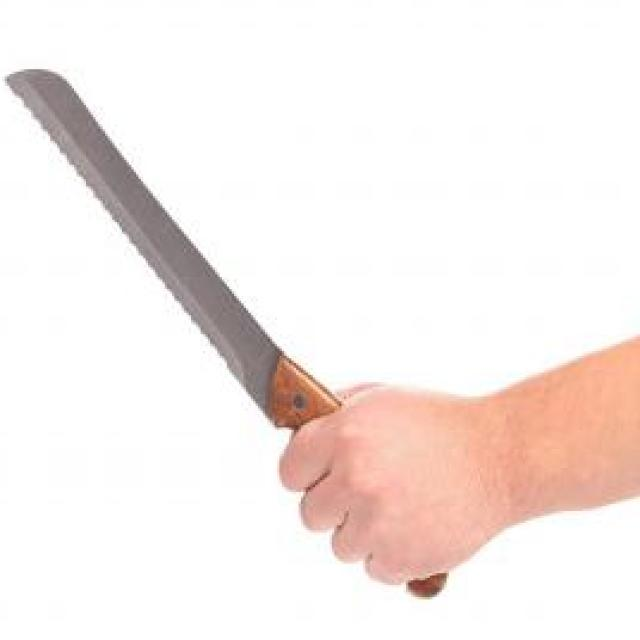knife: (6, 64, 475, 603)
